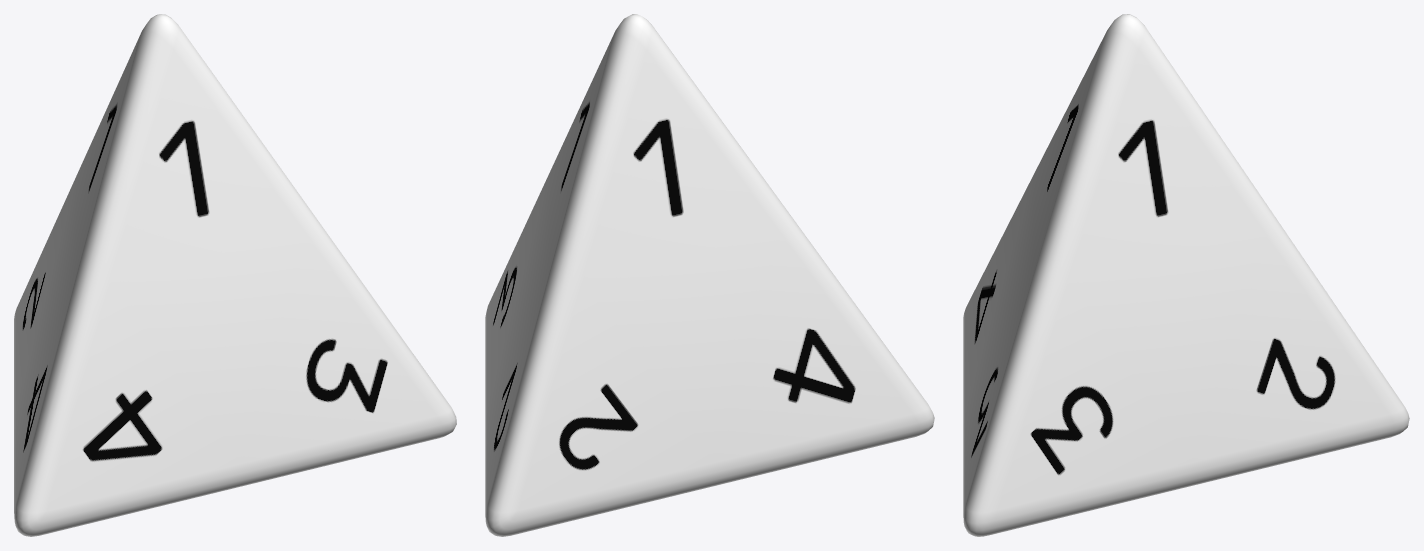
The model's file is Dado4.FBX.
3 renders of one model, left to right at view 1: azimuth 30°, elevation 25°; view 2: azimuth 150°, elevation 25°; view 3: azimuth 270°, elevation 25°, orthographic.
Parts seen in each view (by area): view 1: Dado4; view 2: Dado4; view 3: Dado4.
Part boxes in pixels (x1,y1,x2,y2): Dado4: [14, 14, 456, 536]; Dado4: [485, 14, 934, 536]; Dado4: [963, 14, 1409, 536].
Size of the model in its own units: 243 by 222 by 213.
